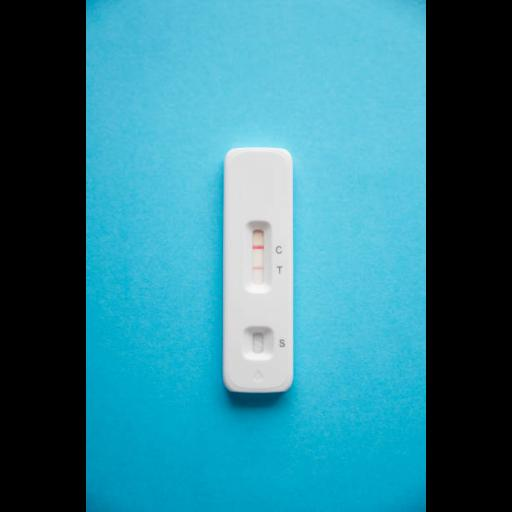Pos: (224, 148, 290, 394)
